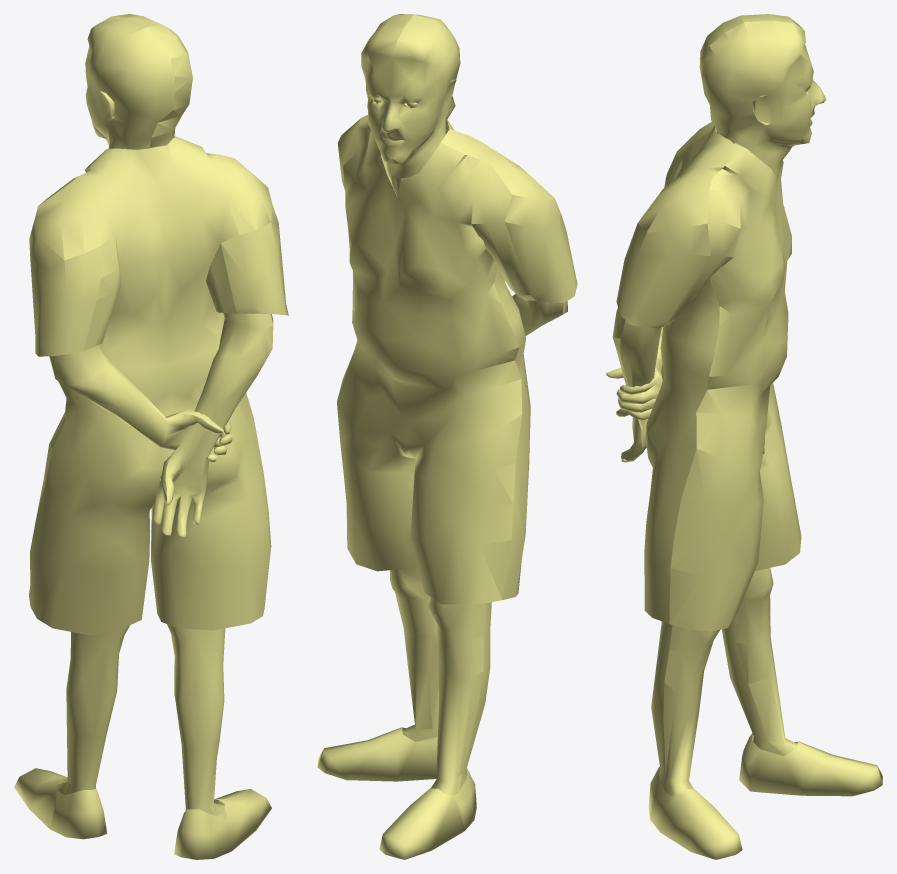
File: uncle.FBX
3 renders of one model, left to right at view 1: azimuth 30°, elevation 25°; view 2: azimuth 150°, elevation 25°; view 3: azimuth 270°, elevation 25°, orthographic. The views are drawn at different scales.
Visible parts, largest first — view 1: cman0006-s; view 2: cman0006-s; view 3: cman0006-s.
Part boxes in pixels (x1,y1,x2,y2): cman0006-s: (14, 14, 288, 859); cman0006-s: (317, 14, 577, 859); cman0006-s: (606, 14, 882, 859).
Size of the model in its own units: 1.45 by 4.49 by 1.43.
